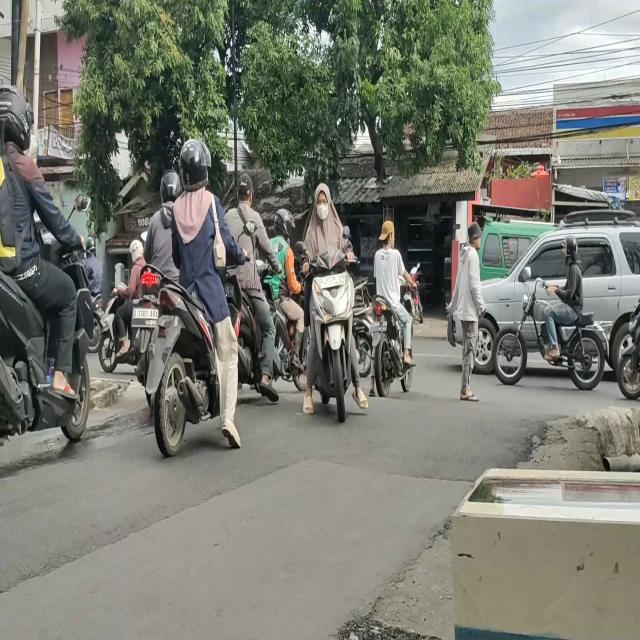helmet: (0, 85, 28, 145), (181, 142, 209, 189), (160, 172, 181, 208), (276, 209, 290, 236), (130, 242, 144, 262), (566, 238, 577, 260), (86, 237, 96, 252)
no-helmet: (315, 182, 333, 226), (237, 176, 253, 208), (382, 223, 394, 249)
